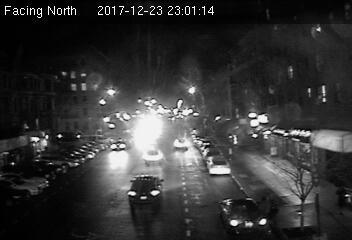car: (217, 193, 272, 235), (207, 156, 233, 177), (142, 148, 164, 163), (173, 137, 190, 152), (110, 139, 127, 151)
